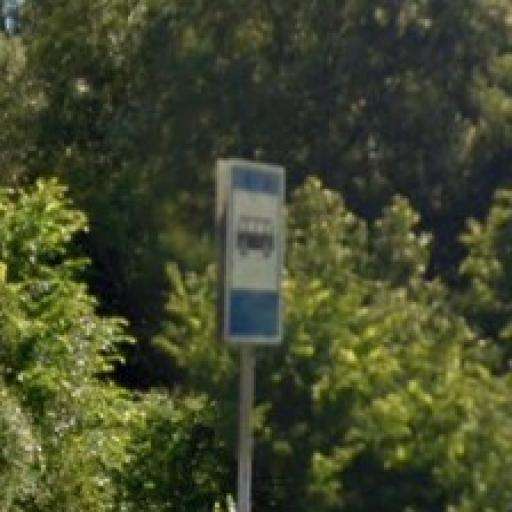traffic_sign: (225, 157, 287, 348)
